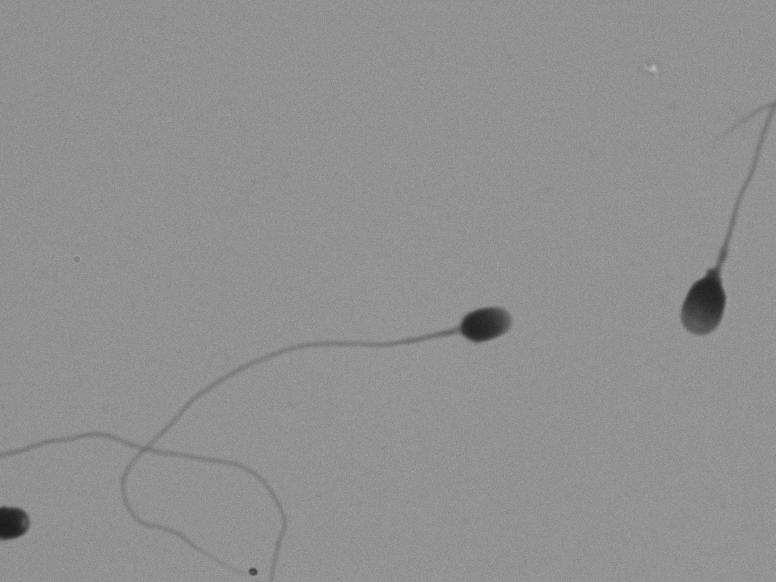Abnormal: (637, 102, 768, 389)
Normal: (128, 224, 568, 499)
